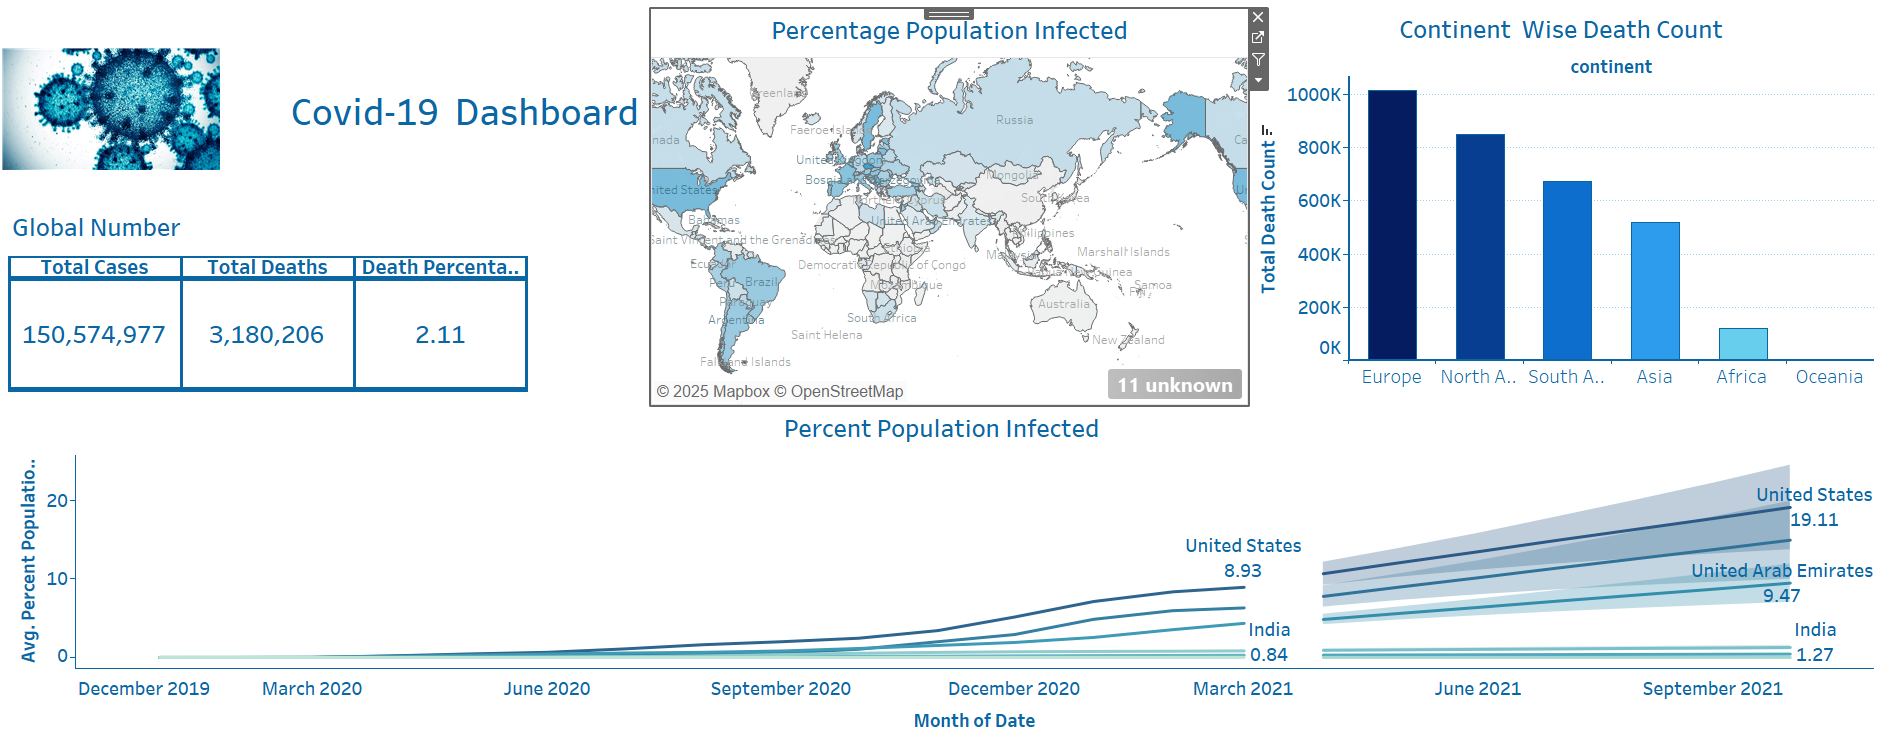

This screenshot's page, from the dashboard's own definition file:
{"tool":"tableau","page":{"name":"Dashboard 1","canvas":[1000,1000],"units":"permille","ordinal":0},"visuals":[{"type":"image","box":[5,10.7,990,978.6]},{"type":"worksheet","title":"Sheet 2","mark":"Automatic","rows":["TotalDeathCount"],"cols":["location"],"box":[664.8,12.1,332.7,525.5]},{"type":"worksheet","title":"Sheet 3","mark":"Automatic","box":[347.3,13.4,317.3,530.8]},{"type":"title","box":[3.7,24.1,339.4,252]},{"type":"image","param":"Image/GettyImages-1773970411_1200x675.jpg","box":[2.5,65.7,116,219.8]},{"type":"worksheet","title":"Sheet 1","mark":"Automatic","box":[4.9,277.5,340.1,264.1]},{"type":"worksheet","title":"Sheet 4","mark":"Automatic","rows":["PercentPopulationInfected"],"cols":["date"],"box":[5.6,546.9,991.9,446.4]}]}

Visuals, with their boxes on the dashboard's canvas, which has no fixed pixel size, in thousandths of its width and height (x1, y1, x2, y2). These are canvas units, not pixel positions in the 1879x740 screenshot, which may show the page scaled, cropped or inside an application window:
image: {"x1": 5, "y1": 11, "x2": 995, "y2": 989}
"Sheet 2" worksheet: {"x1": 665, "y1": 12, "x2": 998, "y2": 538}
"Sheet 3" worksheet: {"x1": 347, "y1": 13, "x2": 665, "y2": 544}
title: {"x1": 4, "y1": 24, "x2": 343, "y2": 276}
image: {"x1": 2, "y1": 66, "x2": 118, "y2": 286}
"Sheet 1" worksheet: {"x1": 5, "y1": 278, "x2": 345, "y2": 542}
"Sheet 4" worksheet: {"x1": 6, "y1": 547, "x2": 998, "y2": 993}
